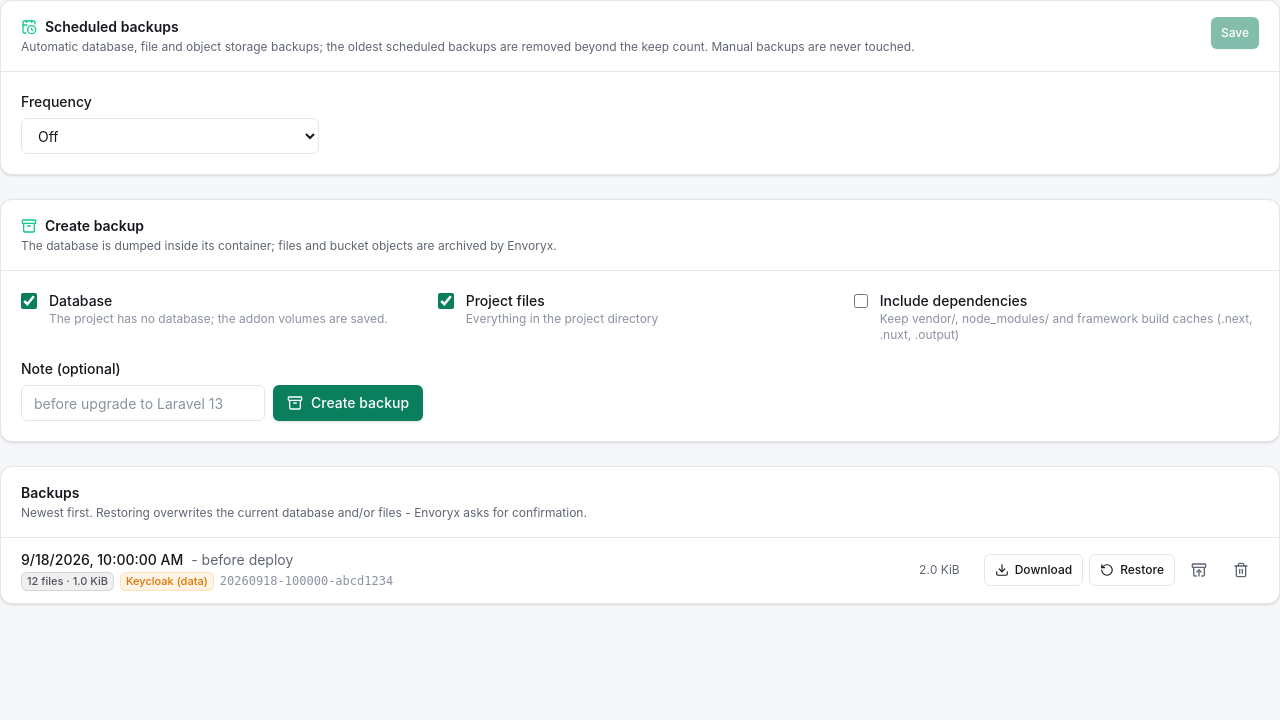
Test case: BackupsTab › backs up and restores addon volumes in a project without a database
Expected: the text "The project has no database; the addon volumes are saved." is shown, [49, 311, 388, 327]
Expected: the checkbox labelled "Database" is enabled, [21, 293, 37, 309]
Click the button "Restore" at {"x": 1132, "y": 570}, box [1089, 554, 1175, 586]
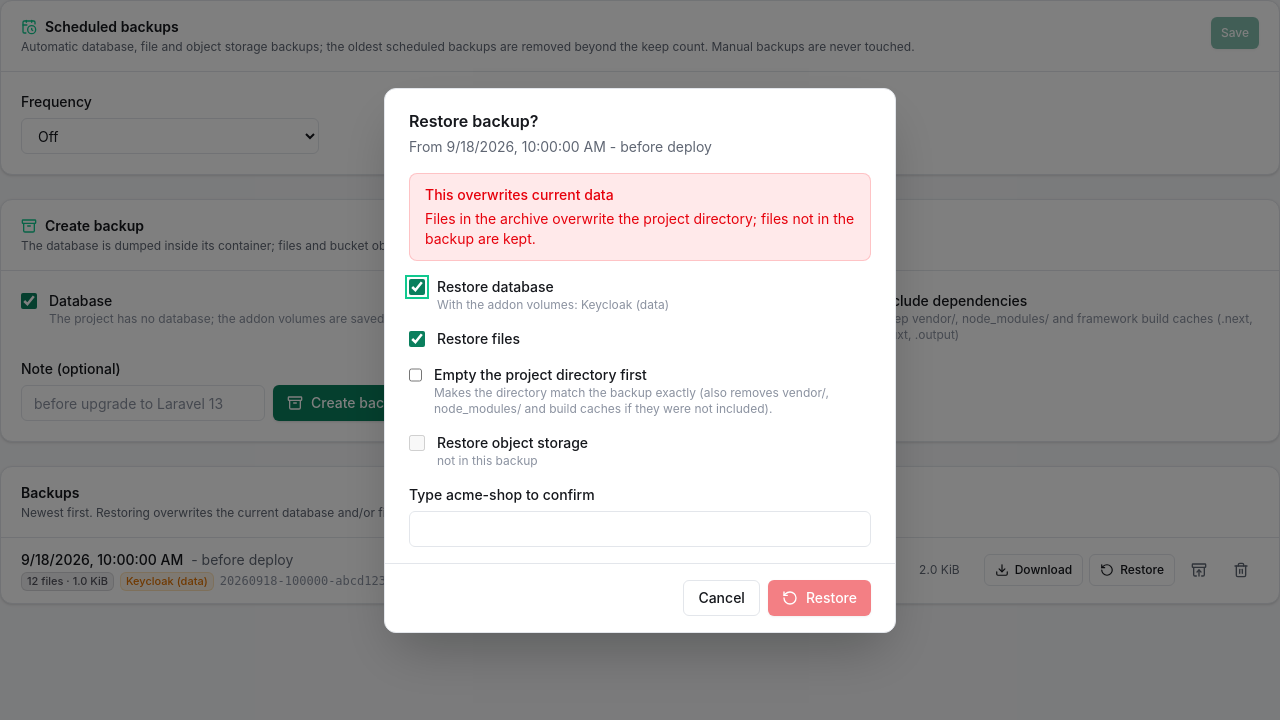
Now the text "With the addon volumes: Keycloak (data)" is shown, box [437, 296, 669, 312]
Now the checkbox labelled "Restore database With the addon volumes: Keycloak (data)" is enabled, box [409, 278, 425, 294]
